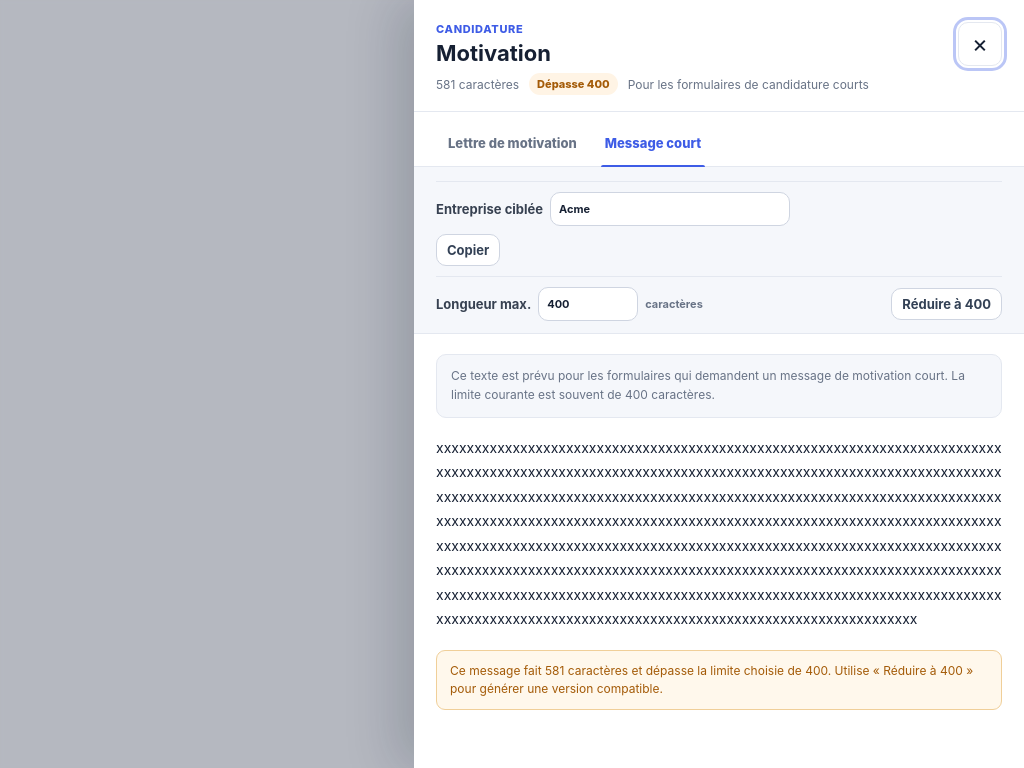
Test: Motivation drawer › does not present reduction as required when the selected limit already fits the message
Replace the text in the number field named "Longueur maximale du message court" with "600" at (588, 304), box [538, 287, 638, 321]
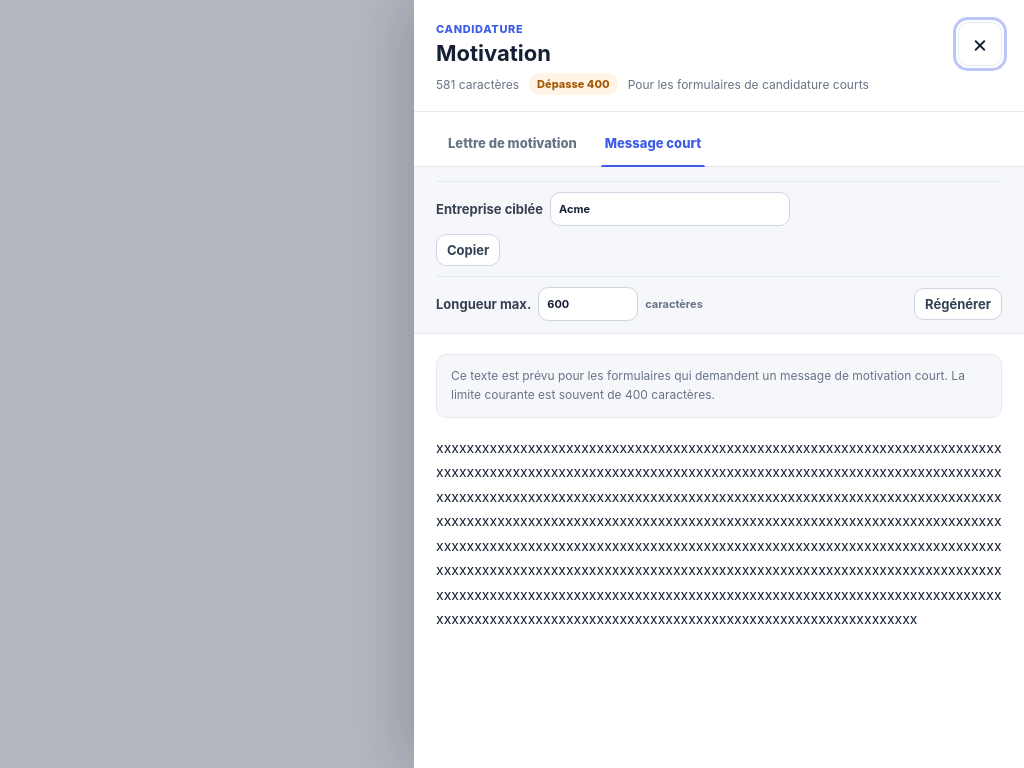
Check: the button "Régénérer" is shown, box [914, 288, 1002, 320]
Check: the text "dépasse la limite choisie" is gone
